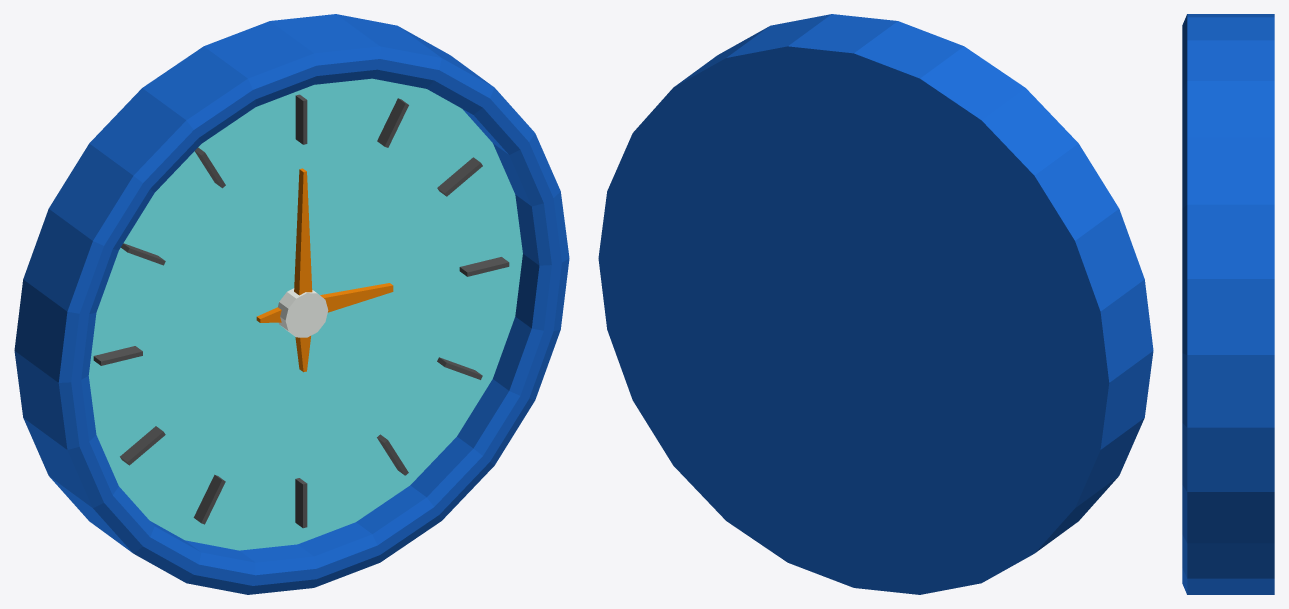
The model's file is WallClock_1c.fbx.
The picture shows the model from 3 angles, left to right: view 1: azimuth 30°, elevation 25°; view 2: azimuth 150°, elevation 25°; view 3: azimuth 270°, elevation 25°; orthographic projection.
Visible parts, largest first — view 1: WallClock_1c; view 2: WallClock_1c; view 3: WallClock_1c.
Boxes of the visible parts, box(x1,y1,x2,y2) form: WallClock_1c: box(14, 14, 569, 594); WallClock_1c: box(598, 14, 1153, 594); WallClock_1c: box(1182, 14, 1274, 594).
Size of the model in its own units: 0.432 by 0.432 by 0.0684.
